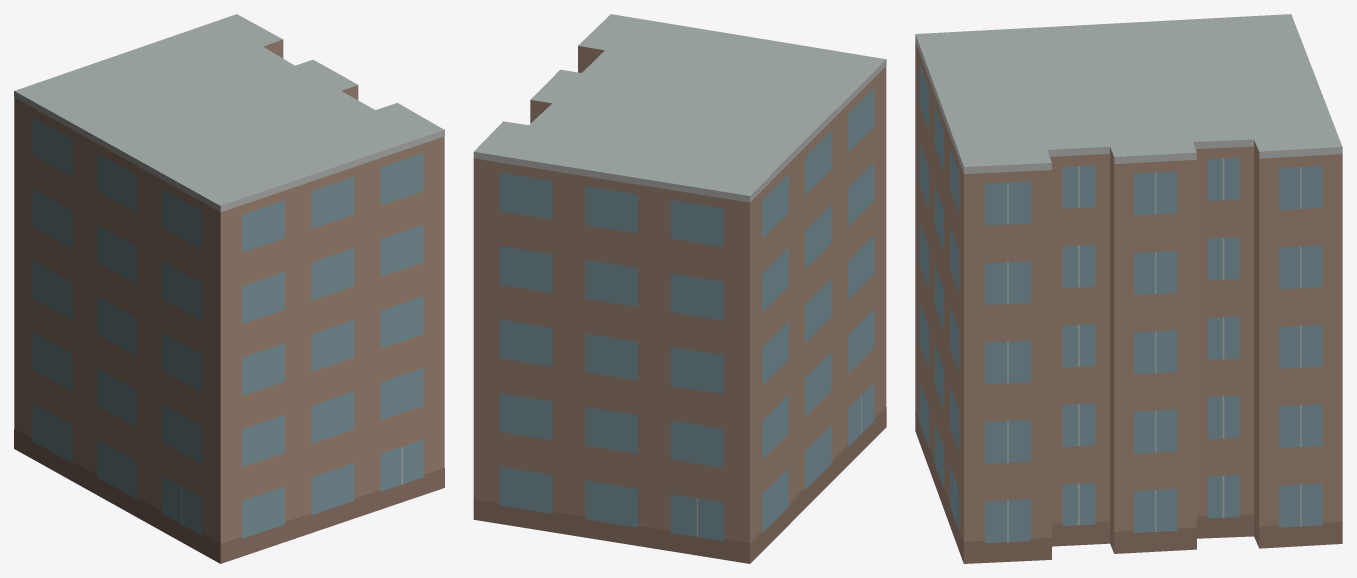
Rendered from survey-upis-32716160.glb.
3 views of the same model, side by side, from view 1: azimuth 30°, elevation 25°; view 2: azimuth 150°, elevation 25°; view 3: azimuth 270°, elevation 25° (orthographic). The views are drawn at different scales.
Parts seen in each view (by area): view 1: survey-upis-32716160.tmp; view 2: survey-upis-32716160.tmp; view 3: survey-upis-32716160.tmp.
Boxes of the visible parts, x1=… form: survey-upis-32716160.tmp: x1=14, y1=14, x2=444, y2=563; survey-upis-32716160.tmp: x1=473, y1=14, x2=886, y2=563; survey-upis-32716160.tmp: x1=915, y1=14, x2=1342, y2=563.
Size of the model in its own units: 11.3 by 13.65 by 13.33.
